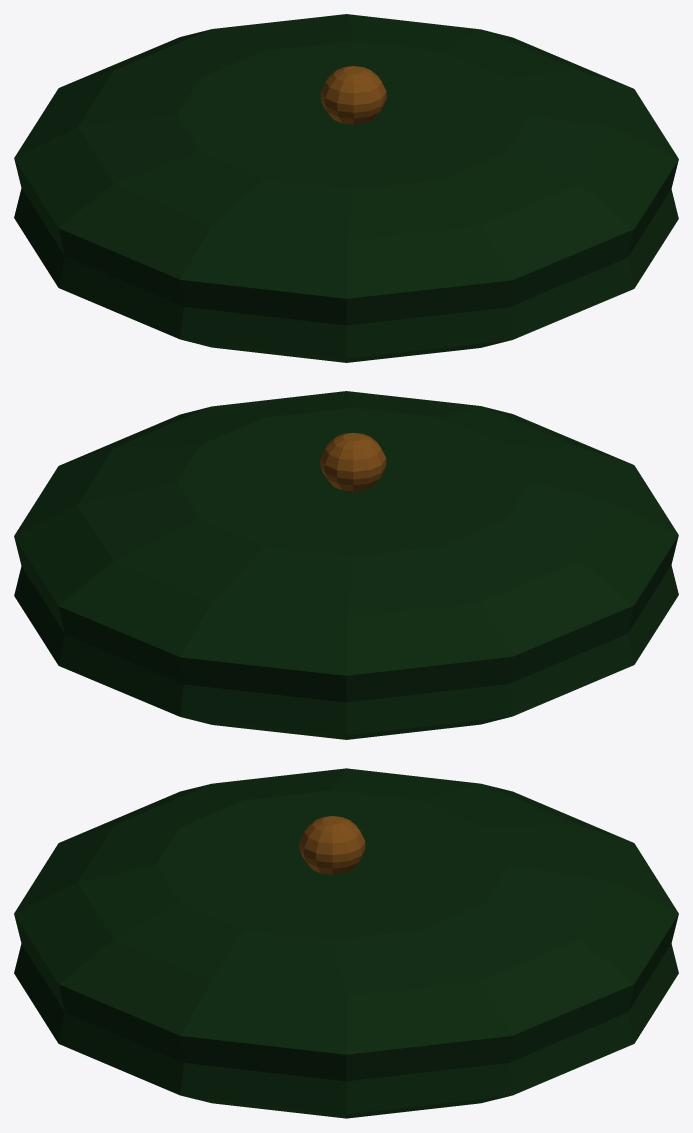
3 renders of one model, top to bottom at view 1: azimuth 30°, elevation 25°; view 2: azimuth 150°, elevation 25°; view 3: azimuth 270°, elevation 25°, orthographic.
Visible parts, largest first — view 1: Cuscino.001; view 2: Cuscino.001; view 3: Cuscino.001.
Boxes of the visible parts, x1,y1,x2,y2 form: Cuscino.001: (14,14,678,362); Cuscino.001: (14,391,678,739); Cuscino.001: (14,768,678,1118).
Bounding box in the file's own units: 155 × 63.28 × 155.
